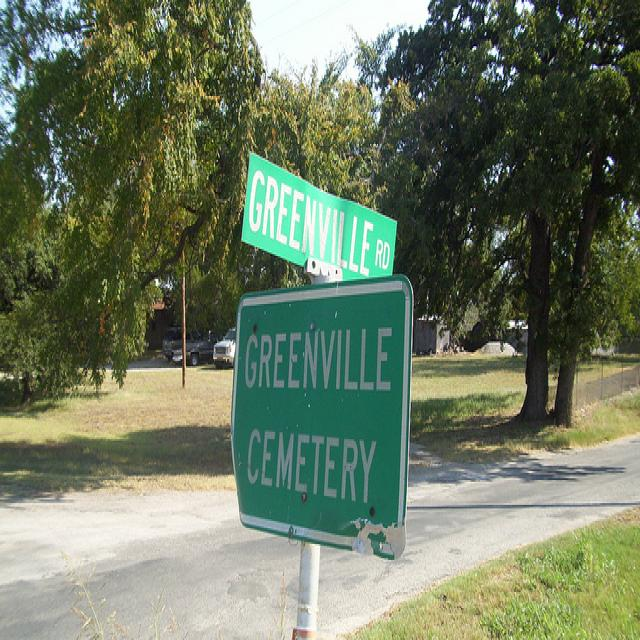Vehicle: (162, 323, 210, 365), (214, 328, 236, 371)
